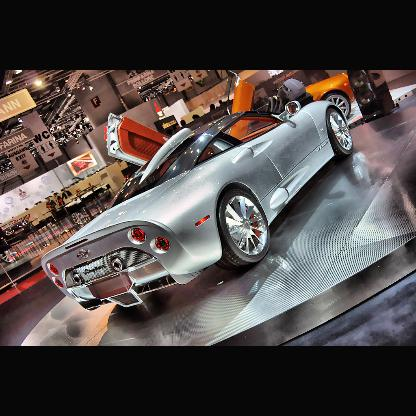Spyker C8 Coupe 2009: (42, 100, 354, 312)
